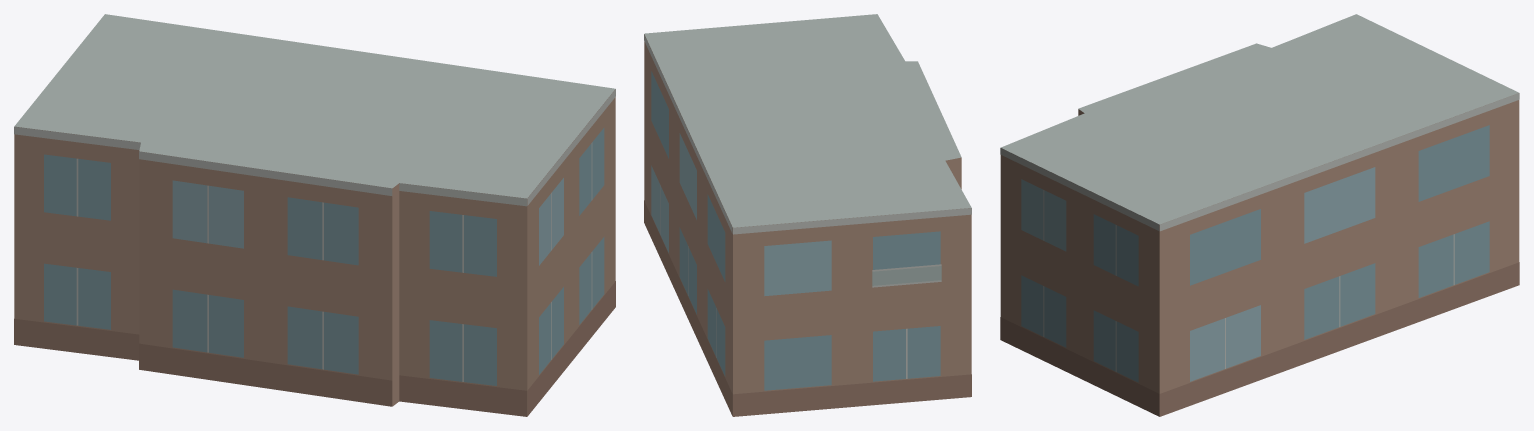
The model's file is survey-upis-32629305.glb.
The picture shows the model from 3 angles, left to right: view 1: azimuth 30°, elevation 25°; view 2: azimuth 150°, elevation 25°; view 3: azimuth 270°, elevation 25°; orthographic projection. The views are drawn at different scales.
Parts seen in each view (by area): view 1: survey-upis-32629305.tmp; view 2: survey-upis-32629305.tmp; view 3: survey-upis-32629305.tmp.
Boxes of the visible parts, <box> form: survey-upis-32629305.tmp: <box>14,14,615,416</box>; survey-upis-32629305.tmp: <box>644,14,971,416</box>; survey-upis-32629305.tmp: <box>1000,14,1519,416</box>.
Size of the model in its own units: 15.98 by 6.8 by 16.64.
